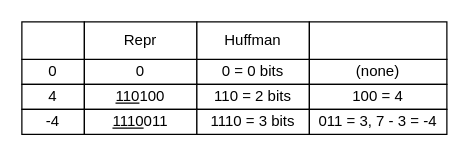
Image size: 469x156. Some labels were removed from this diagram. Here are the shapes that lost their labels. From the top down, the centre of each, then its label:
(x=52, y=40): Value
(x=377, y=40): Data
